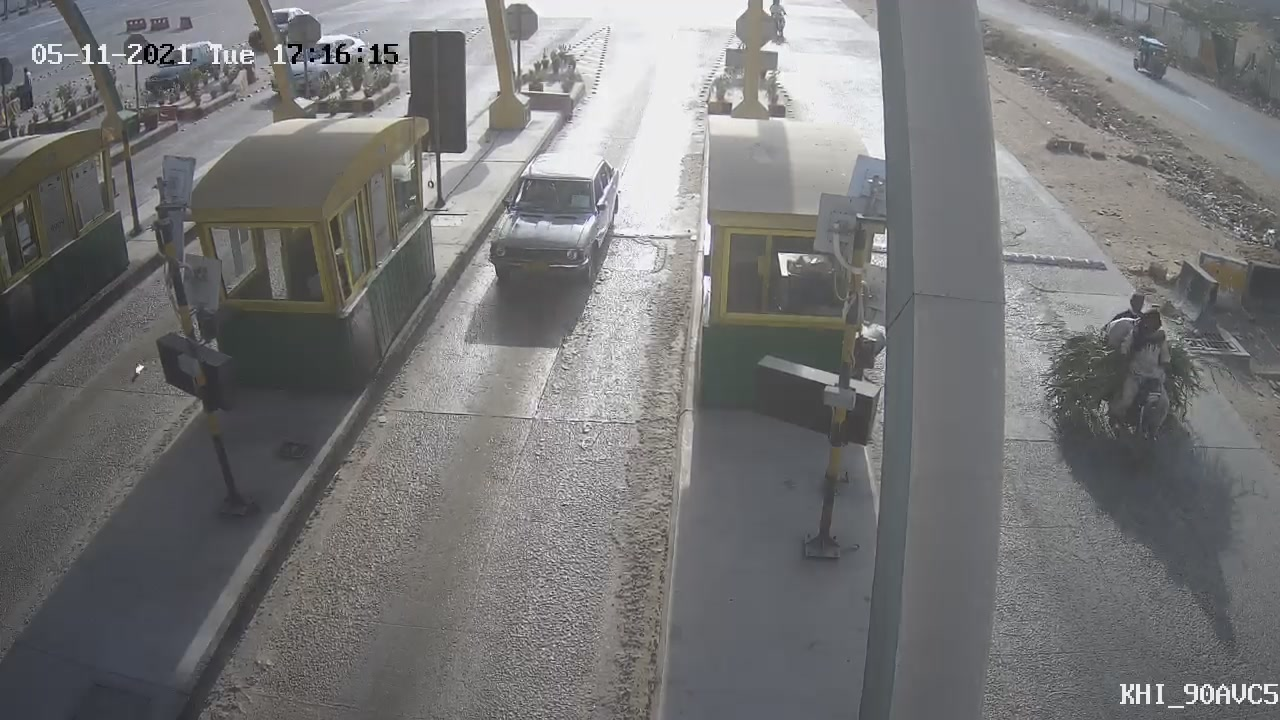F1: (465, 133, 639, 316)
